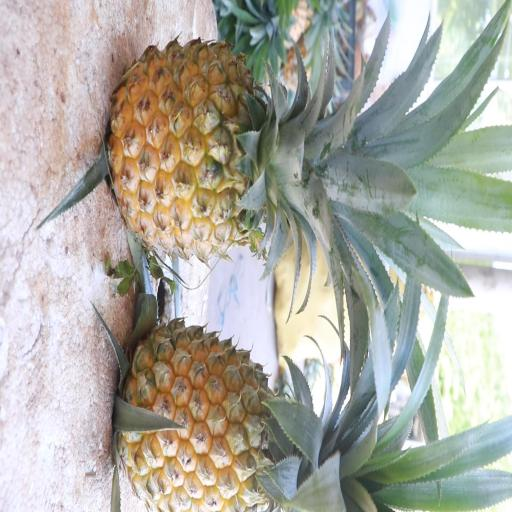Pineapple - v8 v1: (104, 32, 338, 270), (116, 314, 354, 512)
